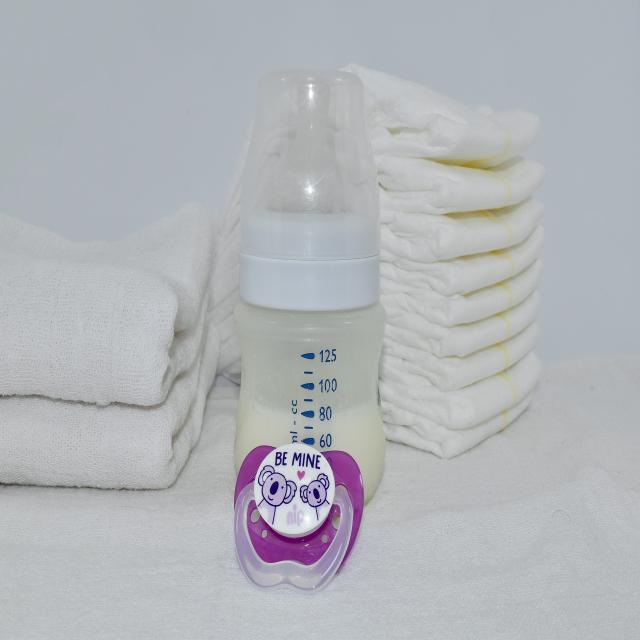plastic_bottle: (232, 67, 388, 511)
